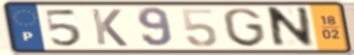5: (178, 7, 219, 48), (42, 8, 84, 48)
9: (135, 6, 175, 50)
G: (221, 7, 269, 49)
K: (89, 8, 130, 48)
N: (268, 5, 316, 50)
